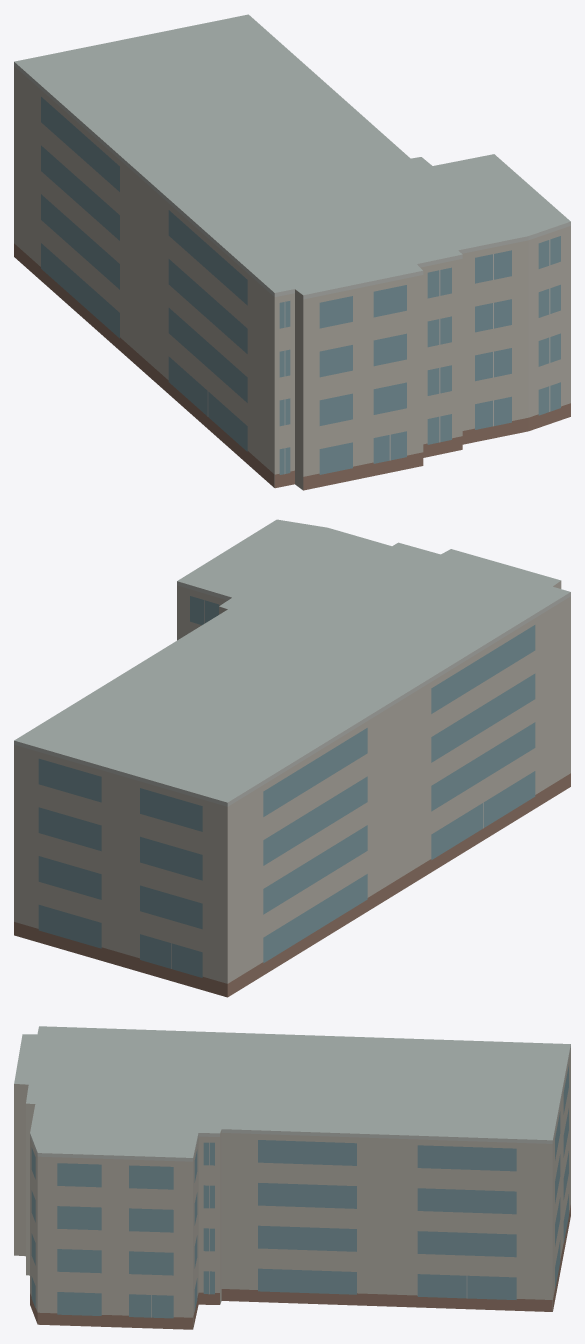
Rendered from survey-upis-32956188.glb.
3 views of the same model, one above another, from view 1: azimuth 30°, elevation 25°; view 2: azimuth 150°, elevation 25°; view 3: azimuth 270°, elevation 25° (orthographic). The views are drawn at different scales.
Visible parts, largest first — view 1: survey-upis-32956188.tmp; view 2: survey-upis-32956188.tmp; view 3: survey-upis-32956188.tmp.
Part boxes in pixels (bbox=[...]): survey-upis-32956188.tmp: bbox=[14, 14, 570, 490]; survey-upis-32956188.tmp: bbox=[14, 519, 570, 997]; survey-upis-32956188.tmp: bbox=[14, 1026, 570, 1329].
Bounding box in the file's own units: 18.62 × 11.3 × 33.22.
